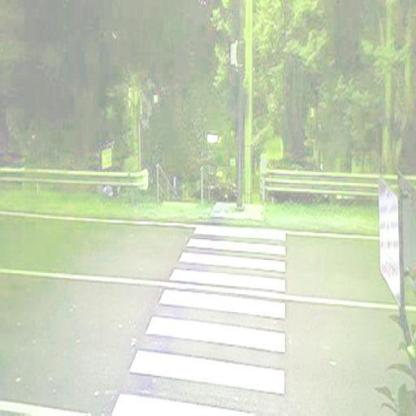crosswalk: (137, 284, 287, 360), (182, 218, 288, 256)
